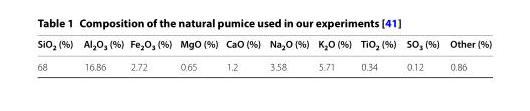table: (36, 36, 491, 72)
table column: (77, 36, 126, 72), (126, 36, 175, 72), (264, 36, 313, 72), (444, 36, 491, 72), (175, 36, 221, 72), (355, 36, 400, 72), (400, 36, 444, 72), (221, 36, 264, 72), (313, 36, 355, 72), (36, 36, 77, 72)
table column header: (36, 36, 491, 55)
table row: (36, 36, 491, 55), (36, 55, 491, 72)
